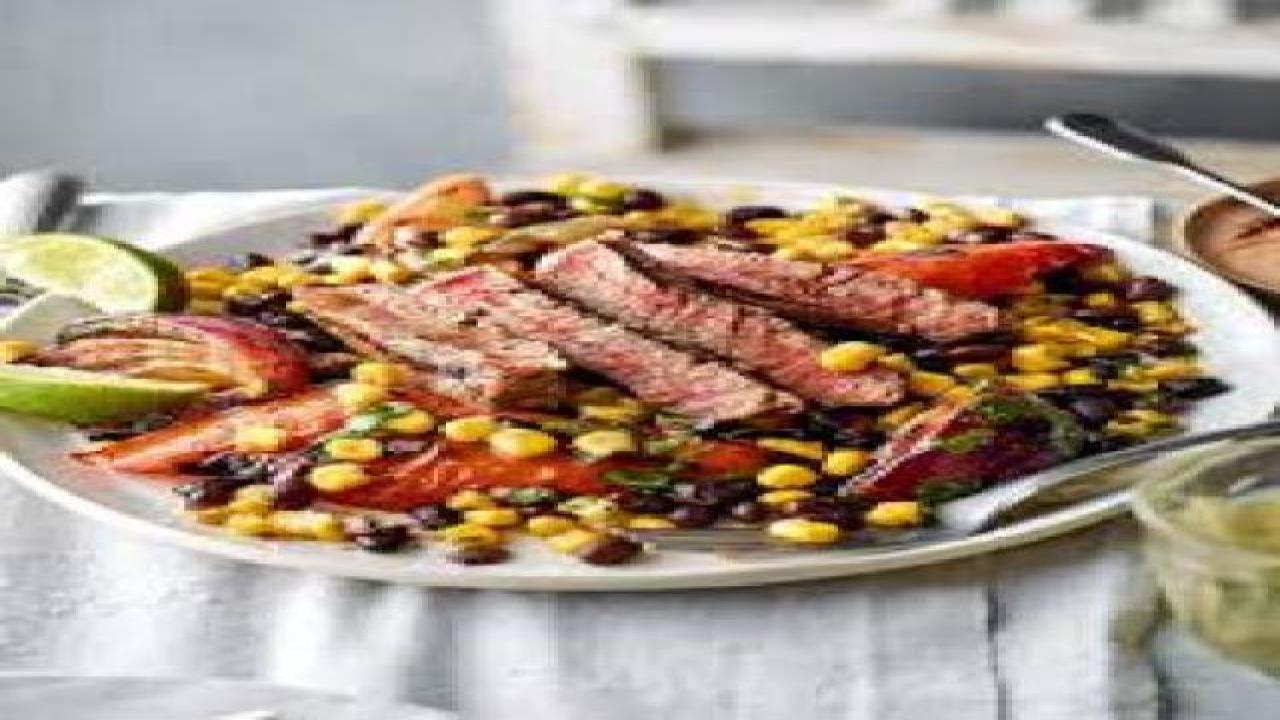Carne: (290, 241, 966, 422)
